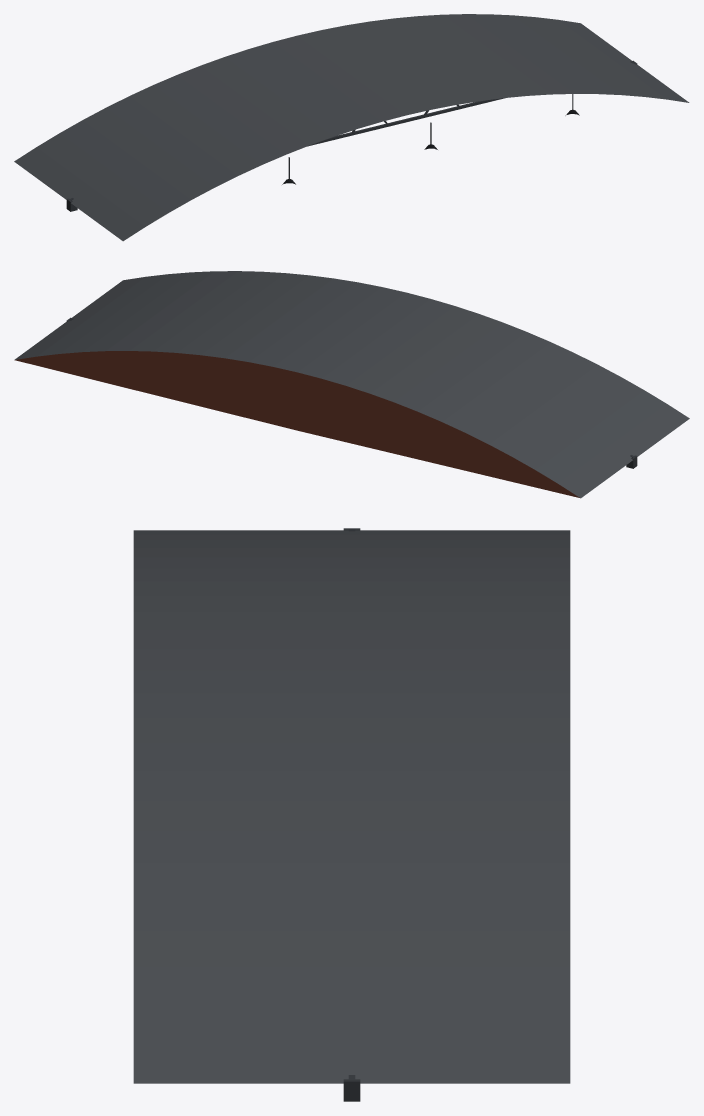
File: roof.vault_bay.end.glb
3 renders of one model, top to bottom at view 1: azimuth 30°, elevation 25°; view 2: azimuth 150°, elevation 25°; view 3: azimuth 270°, elevation 25°, orthographic. The views are drawn at different scales.
Parts seen in each view (by area): view 1: roof_vault_bay_end; view 2: roof_vault_bay_end; view 3: roof_vault_bay_end.
Part boxes in pixels (x1,y1,x2,y2): roof_vault_bay_end: (14,14,689,241); roof_vault_bay_end: (14,271,689,498); roof_vault_bay_end: (133,528,570,1101).
Size of what is drawn, in the model's own units: 24 by 3.56 by 8.
